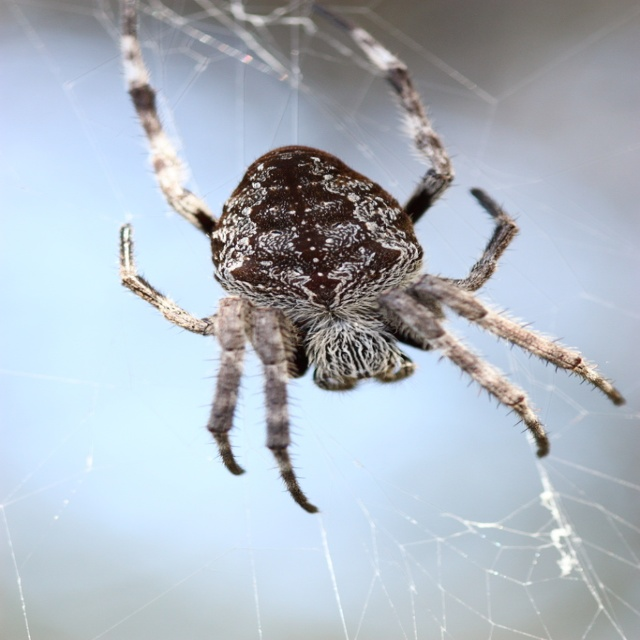Spider: (114, 0, 625, 514)
